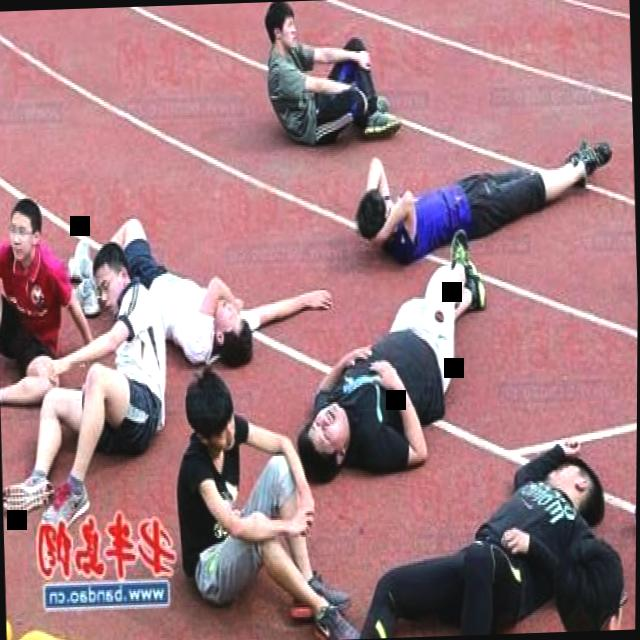Fall-Detected: (0, 178, 95, 409)
